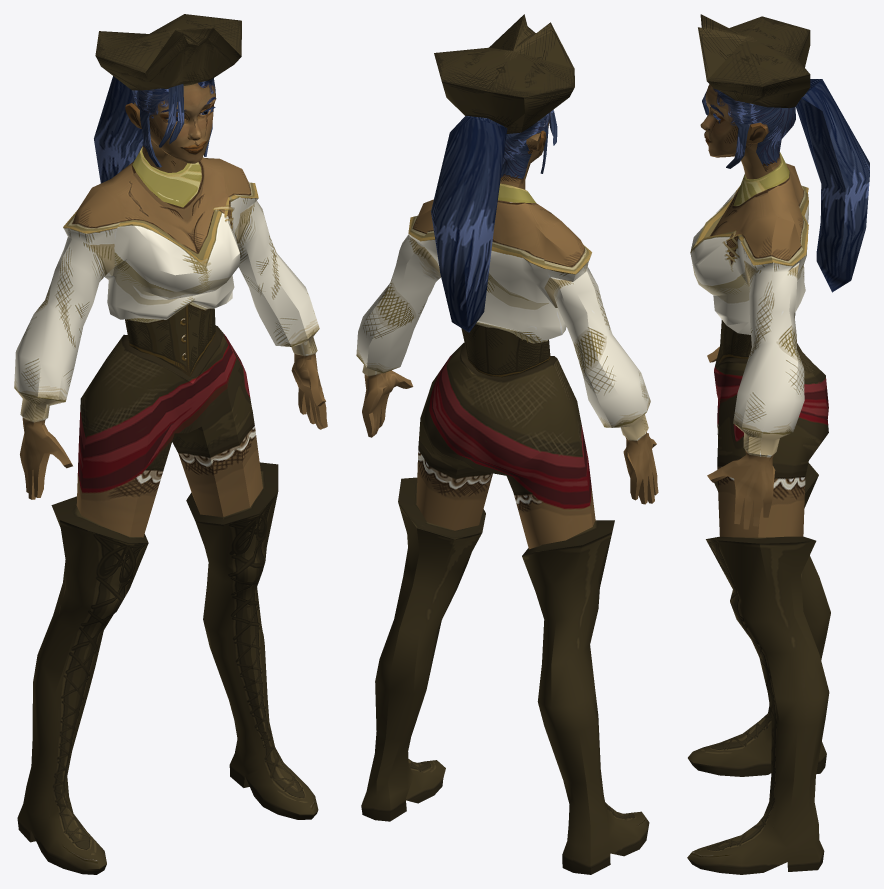
File: gat140__kearvell_l__character.glb
3 renders of one model, left to right at view 1: azimuth 30°, elevation 25°; view 2: azimuth 150°, elevation 25°; view 3: azimuth 270°, elevation 25°, orthographic. The views are drawn at different scales.
Parts seen in each view (by area): view 1: Main_Character; view 2: Main_Character; view 3: Main_Character.
Boxes of the visible parts, x1,y1,x2,y2 form: Main_Character: (14,14,327,874); Main_Character: (356,14,658,874); Main_Character: (687,14,869,874).
Size of the model in its own units: 0.6624 by 1.74 by 0.3629.
Materials: 1 (1 with a texture image).
